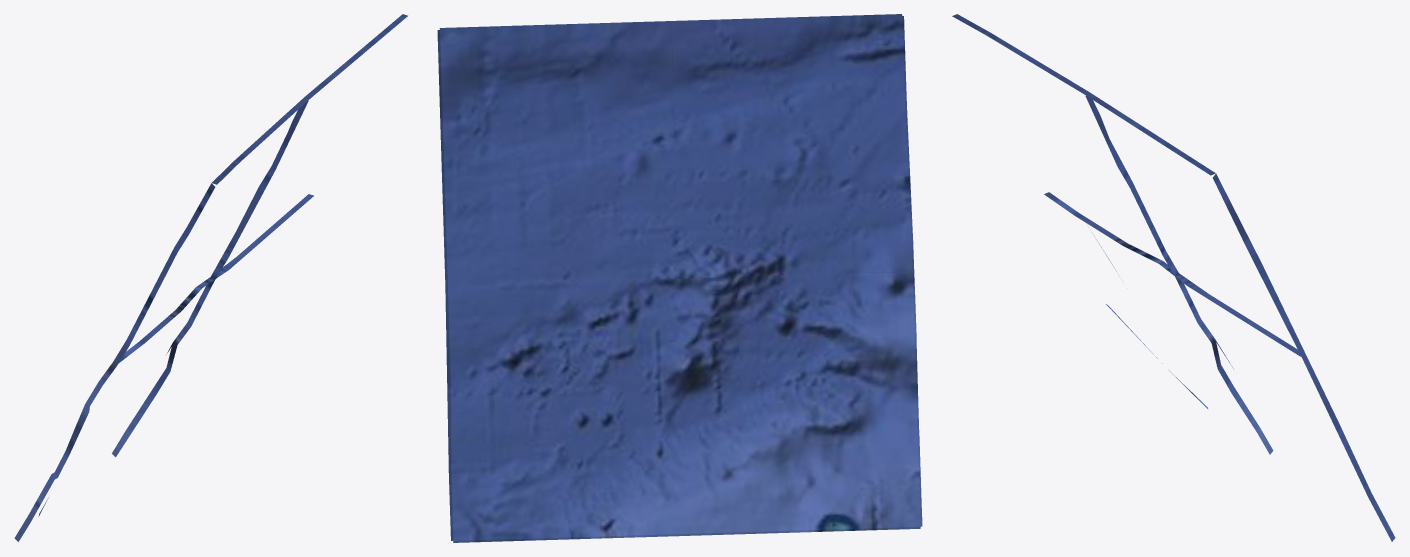
3 views of the same model, side by side, from view 1: azimuth 30°, elevation 25°; view 2: azimuth 150°, elevation 25°; view 3: azimuth 270°, elevation 25° (orthographic). The views are drawn at different scales.
Size of the model in its own units: 79274 by 71608 by 68685.
Materials: 1 (1 with a texture image).
